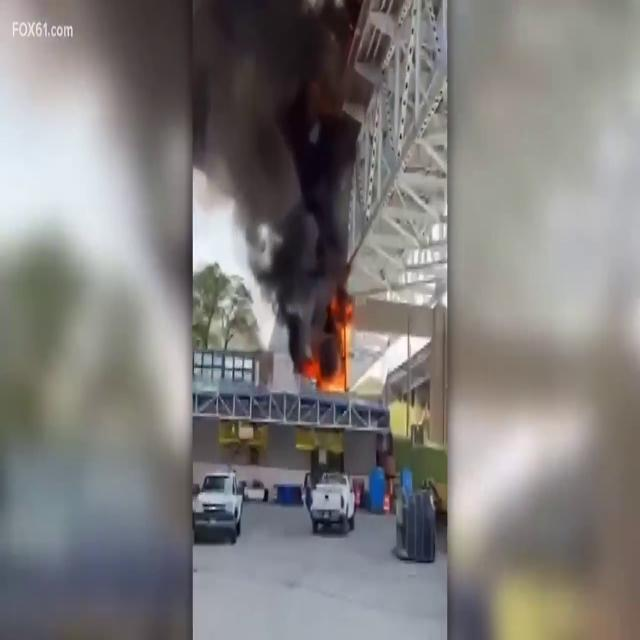Fire: (307, 307, 358, 393)
Smoke: (192, 1, 370, 330)
